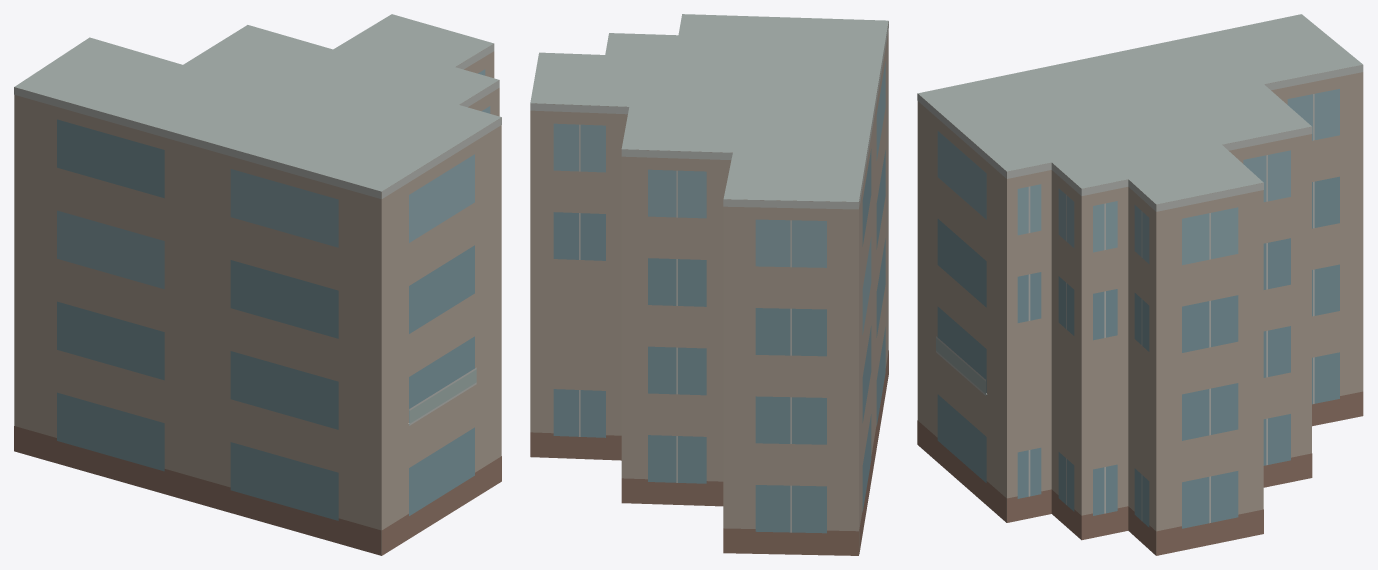
File: survey-upis-32597776.glb
The picture shows the model from 3 angles, left to right: view 1: azimuth 30°, elevation 25°; view 2: azimuth 150°, elevation 25°; view 3: azimuth 270°, elevation 25°; orthographic projection. The views are drawn at different scales.
Parts seen in each view (by area): view 1: survey-upis-32597776.tmp; view 2: survey-upis-32597776.tmp; view 3: survey-upis-32597776.tmp.
Part boxes in pixels (x1,y1,x2,y2): survey-upis-32597776.tmp: [14, 14, 501, 555]; survey-upis-32597776.tmp: [530, 14, 888, 555]; survey-upis-32597776.tmp: [917, 14, 1363, 555].
Size of the model in its own units: 13.5 by 11.6 by 13.35.
